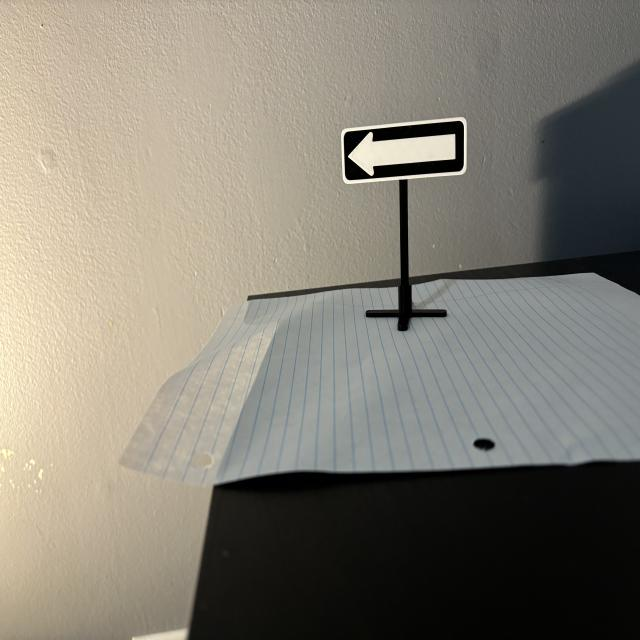sign_oneway_left: (343, 119, 468, 185)
